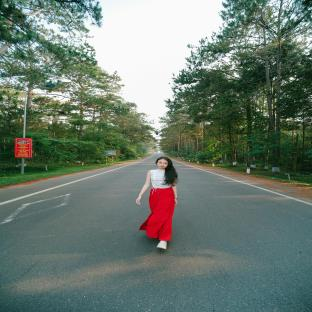Human: (136, 156, 178, 249)
